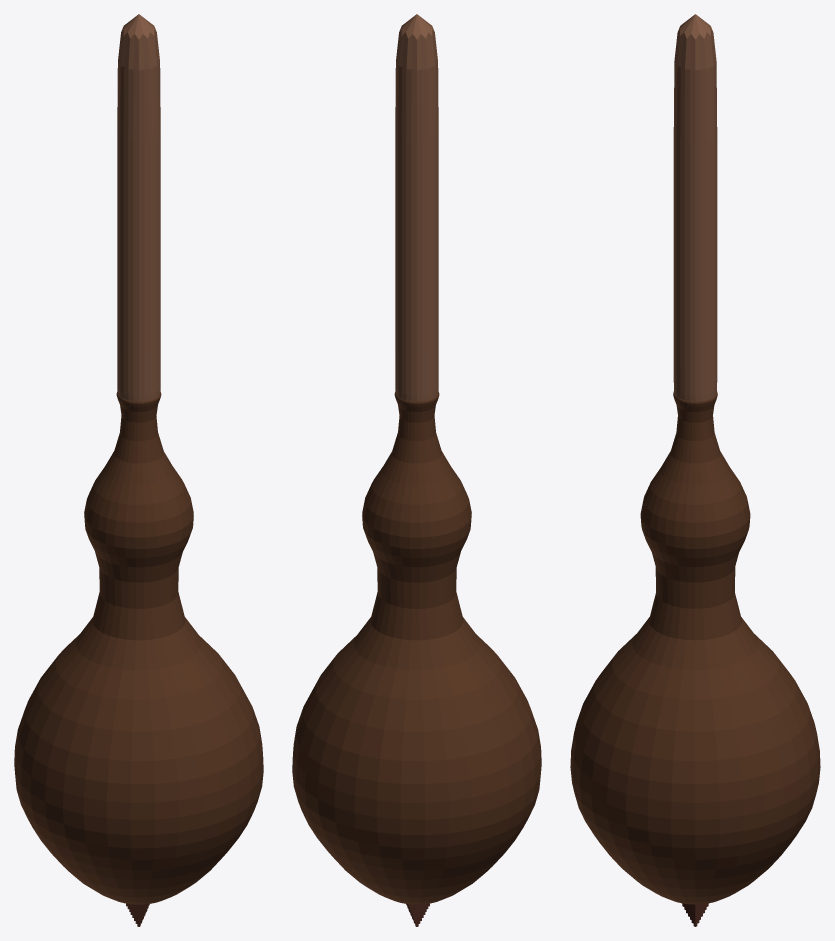
File: Wand 614.glb
3 renders of one model, left to right at view 1: azimuth 30°, elevation 25°; view 2: azimuth 150°, elevation 25°; view 3: azimuth 270°, elevation 25°, orthographic.
Parts seen in each view (by area): view 1: GeneratedWand; view 2: GeneratedWand; view 3: GeneratedWand.
Boxes of the visible parts, x1=… form: GeneratedWand: x1=14, y1=14, x2=263, y2=926; GeneratedWand: x1=292, y1=14, x2=541, y2=926; GeneratedWand: x1=570, y1=14, x2=820, y2=926.
Size of the model in its own units: 0.123 by 0.4949 by 0.123.
